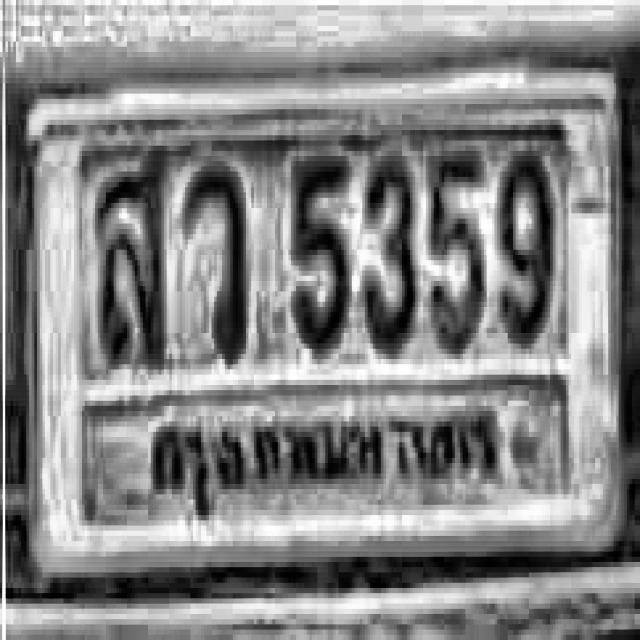license-plate: (19, 83, 636, 580)
